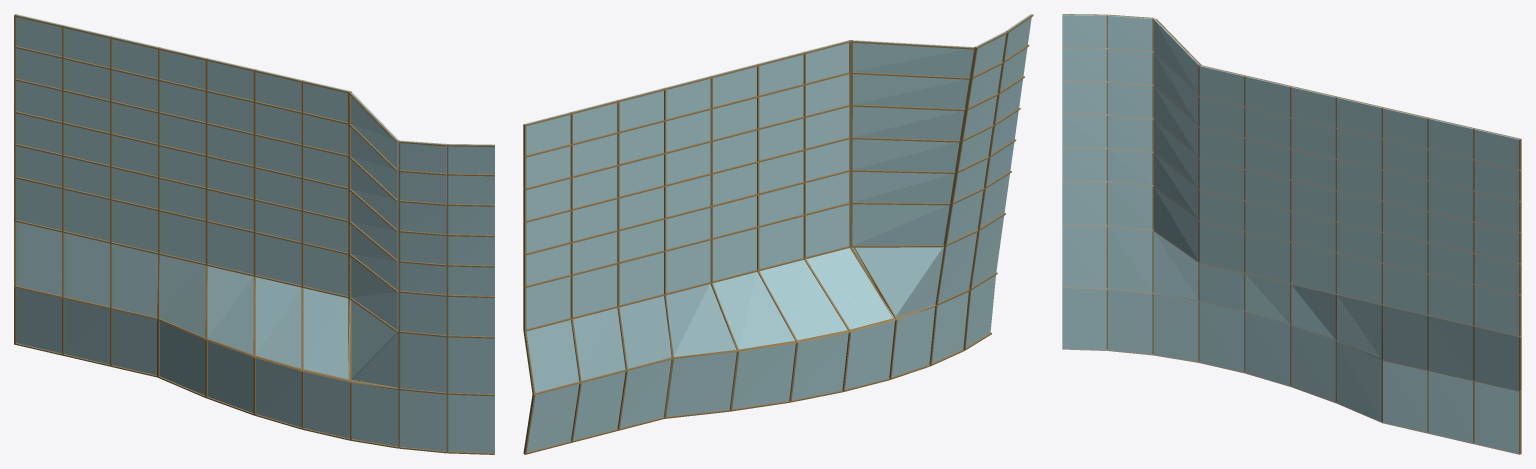
The model's file is G7_Completion_R005B_Body_1_08.glb.
3 renders of one model, left to right at view 1: azimuth 90°, elevation 25°; view 2: azimuth 150°, elevation 25°; view 3: azimuth 270°, elevation 25°, orthographic. The views are drawn at different scales.
Parts seen in each view (by area): view 1: Body_1_08_G7C3_glass_solid_skin, Body_1_08_G7C3_metal_solid_frame; view 2: Body_1_08_G7C3_glass_solid_skin, Body_1_08_G7C3_metal_solid_frame, Body_1_08_G7C3_metal_solid_skin; view 3: Body_1_08_G7C3_glass_solid_skin, Body_1_08_G7C3_shell_solid_skin, Body_1_08_G7C3_metal_solid_skin, Body_1_08_G7C3_metal_solid_frame.
Part boxes in pixels (x1,y1,x2,y2): Body_1_08_G7C3_glass_solid_skin: (16, 14, 494, 452); Body_1_08_G7C3_metal_solid_frame: (14, 14, 494, 454); Body_1_08_G7C3_glass_solid_skin: (525, 14, 1031, 452); Body_1_08_G7C3_metal_solid_frame: (524, 14, 1033, 454); Body_1_08_G7C3_metal_solid_skin: (523, 30, 1006, 452); Body_1_08_G7C3_glass_solid_skin: (1062, 14, 1519, 453); Body_1_08_G7C3_shell_solid_skin: (1062, 47, 1520, 454); Body_1_08_G7C3_metal_solid_skin: (1106, 15, 1520, 453); Body_1_08_G7C3_metal_solid_frame: (1062, 14, 1521, 453).
Size of the model in its own units: 39.07 by 45.5 by 60.19.
Materials: 3 (2 with a texture image).
